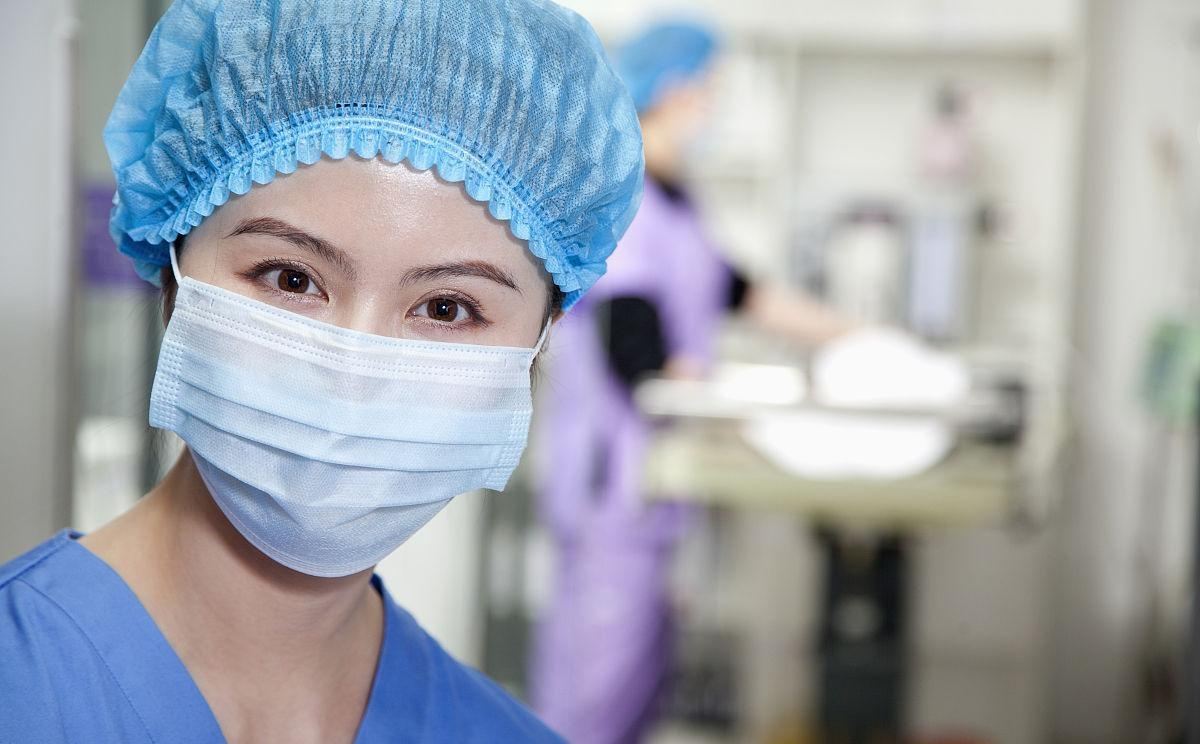Mask: (166, 183, 553, 570)
